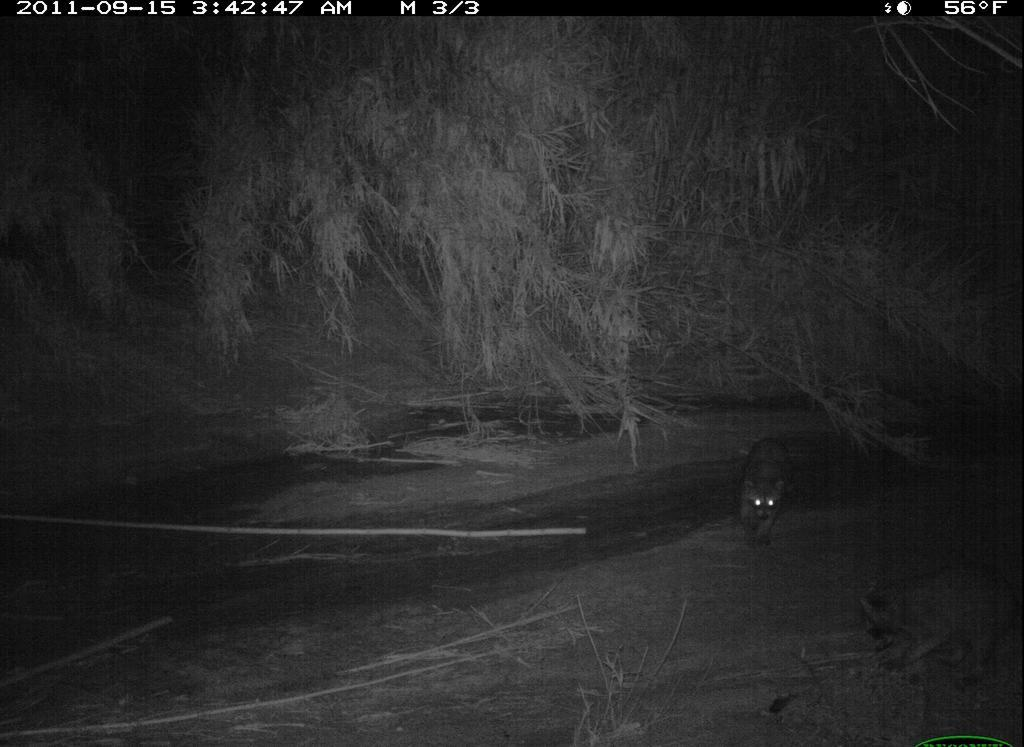raccoon: (857, 546, 1024, 692), (726, 424, 818, 565)
